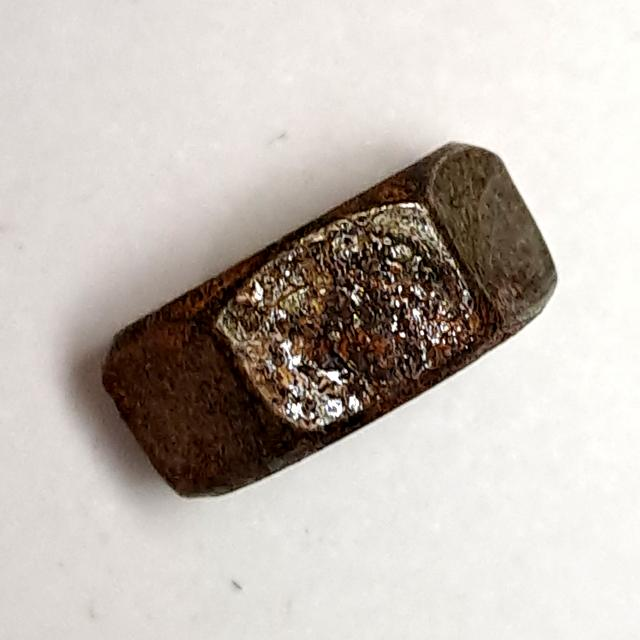Side_Rust: (91, 119, 569, 522)
